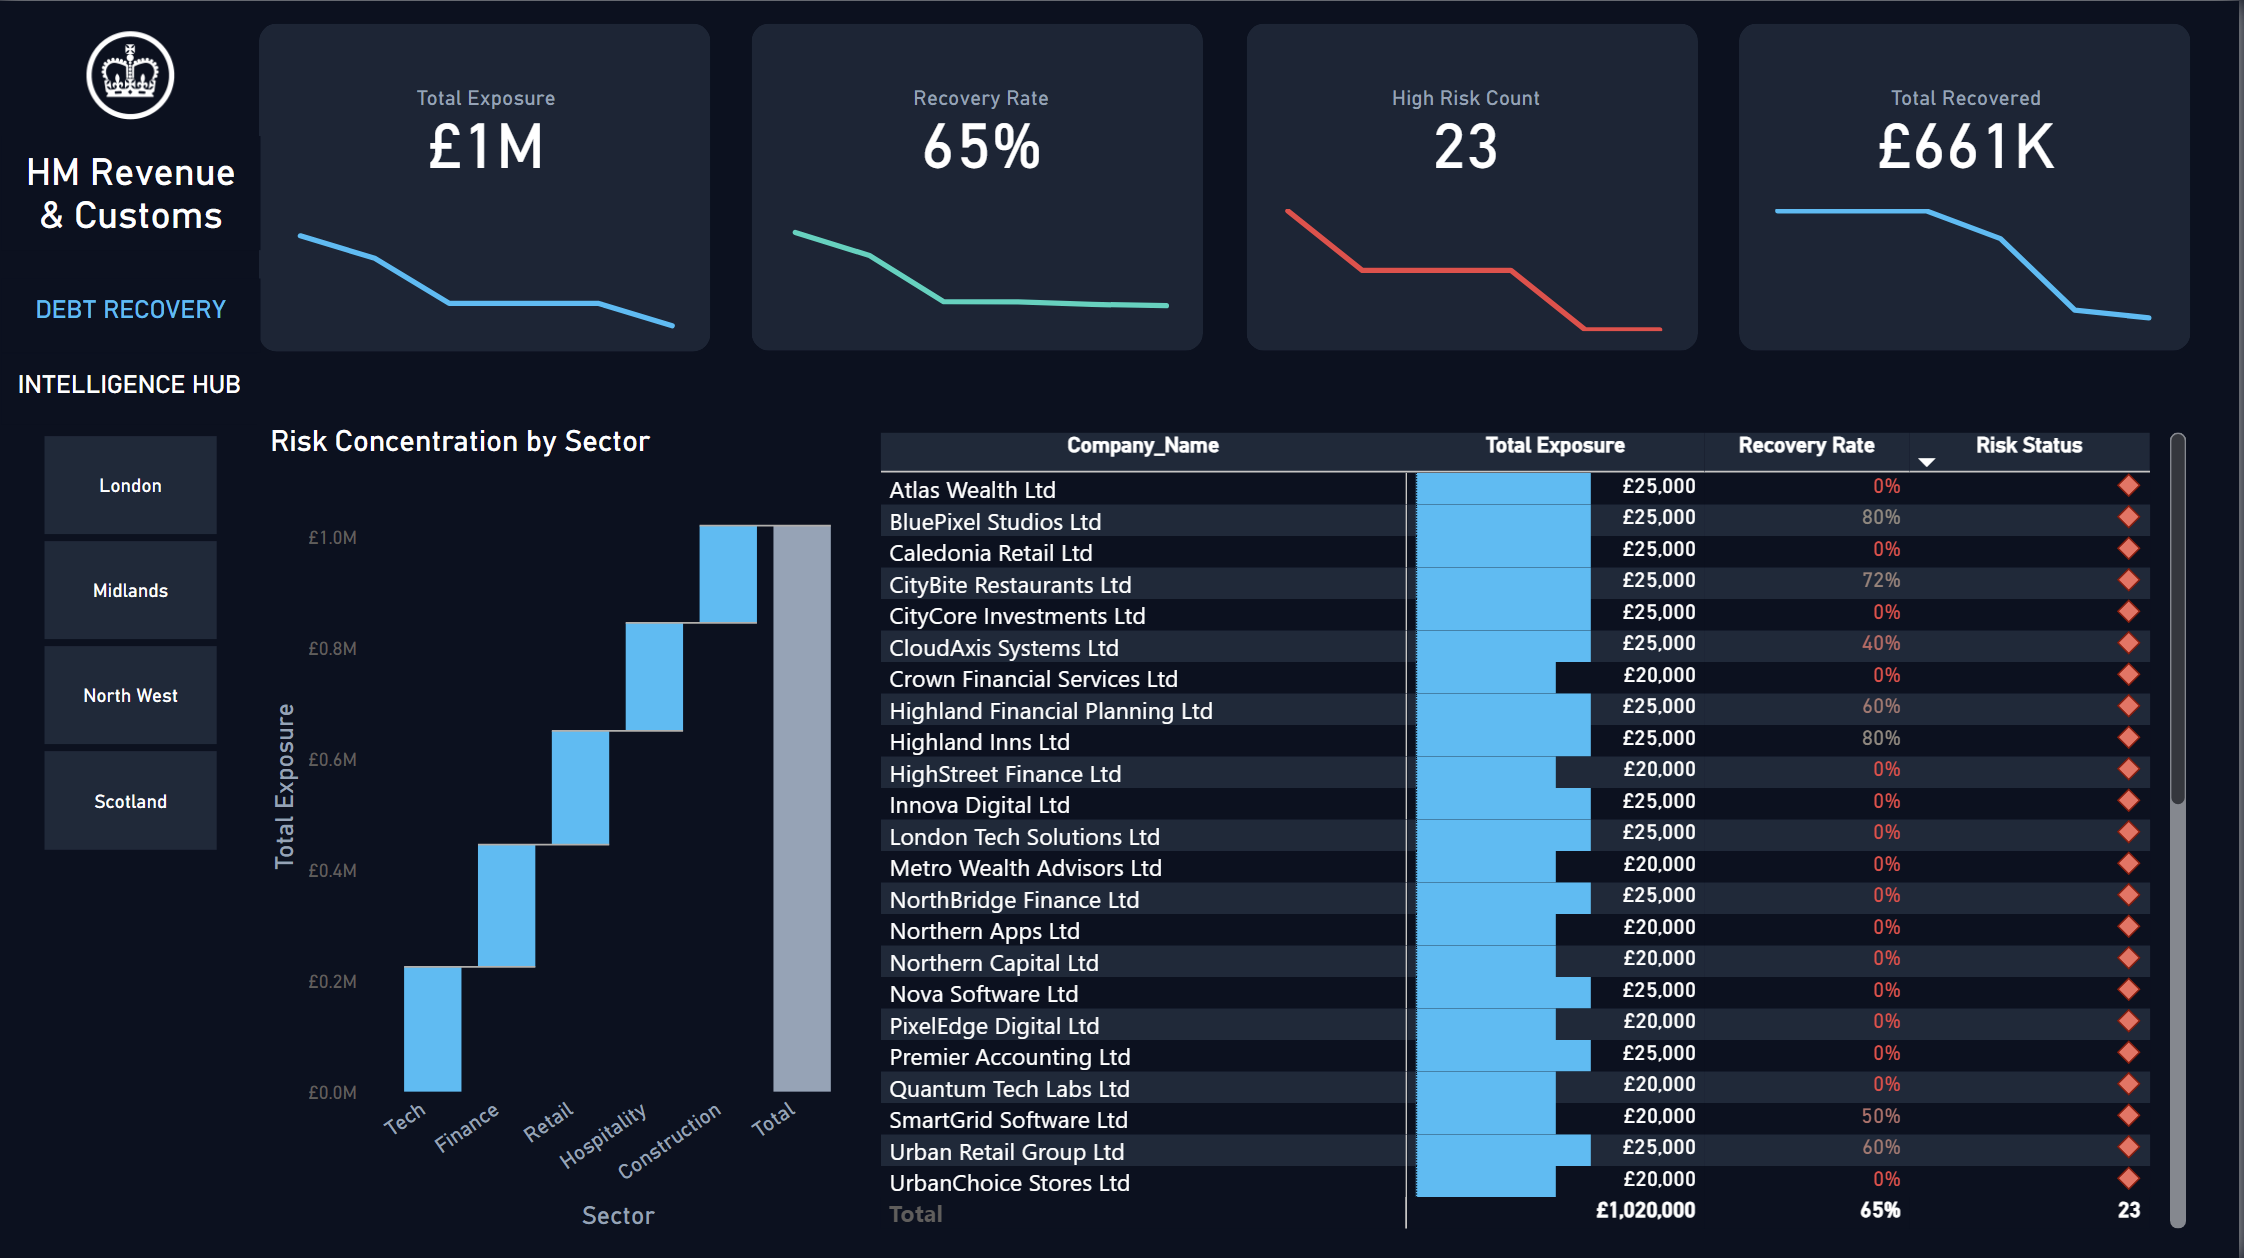

The dashboard page shown, as its layout file describes it:
{"tool":"powerbi","page":{"name":"Command_Center","canvas":[1280,720],"ordinal":0},"visuals":[{"type":"shape","box":[148.5,13,258,187.5],"z":0},{"type":"cardVisual","fields":{"Data":["_Key Measures.Total Exposure"]},"box":[162,25.5,234,99],"z":1000},{"type":"shape","box":[430,13,258,187],"z":2000},{"type":"shape","box":[713,13,258,187],"z":3000},{"type":"shape","box":[994.8,13,258,187],"z":4000},{"type":"lineChart","fields":{"Category":["Date Table.Month"],"Y":["_Key Measures.High Risk Count"]},"box":[714,106,256.5,88],"z":5000},{"type":"cardVisual","fields":{"Data":["_Key Measures.Recovery Rate"]},"box":[444,25,234,99],"z":6000},{"type":"cardVisual","fields":{"Data":["_Key Measures.Total Recovered"]},"box":[1006.5,25,234,99],"z":7000},{"type":"cardVisual","fields":{"Data":["_Key Measures.High Risk Count"]},"box":[721.5,25,234,99],"z":8000},{"type":"lineChart","fields":{"Category":["Date Table.Month"],"Y":["_Key Measures.Recovery Rate"]},"box":[433.5,106,256,88],"z":9000},{"type":"lineChart","fields":{"Category":["Date Table.Month"],"Y":["_Key Measures.Total Exposure"]},"box":[150,106.5,256.5,88.5],"z":10000},{"type":"lineChart","fields":{"Category":["Date Table.Month"],"Y":["_Key Measures.Total Recovered"]},"box":[994.5,106,256,88],"z":11000},{"type":"waterfallChart","title":"Risk Concentration by Sector","fields":{"Category":["Dim_Companies.Sector"],"Y":["_Key Measures.Total Exposure"]},"box":[150,241.5,348,465],"z":12000},{"type":"pivotTable","fields":{"Rows":["Dim_Companies.Company_Name"],"Values":["_Key Measures.Total Exposure","_Key Measures.Recovery Rate","_Key Measures.High Risk Count"]},"box":[498,241.5,756,465],"z":13000},{"type":"slicer","fields":{"Values":["Dim_Companies.Region"]},"box":[0,241.5,148.5,250.5],"z":14000},{"type":"image","box":[1.5,7.5,147,70.5],"z":15000},{"type":"textbox","box":[1.8,77.5,147.9,65.1],"z":16000},{"type":"textbox","box":[1.8,158.5,147.9,42.3],"z":17000},{"type":"textbox","box":[1.8,200.7,146.1,40.5],"z":18000}]}

Visuals, with their boxes in screenshot pixels (x1, y1, x2, y2), scaled from the page's 1280x720 canvas onto the 2244x1258 screenshot:
shape: (left=260, top=23, right=713, bottom=350)
cardVisual - _Key Measures.Total Exposure: (left=284, top=45, right=694, bottom=218)
shape: (left=754, top=23, right=1206, bottom=349)
shape: (left=1250, top=23, right=1702, bottom=349)
shape: (left=1744, top=23, right=2196, bottom=349)
lineChart - Date Table.Month x _Key Measures.High Risk Count: (left=1252, top=185, right=1701, bottom=339)
cardVisual - _Key Measures.Recovery Rate: (left=778, top=44, right=1189, bottom=217)
cardVisual - _Key Measures.Total Recovered: (left=1765, top=44, right=2175, bottom=217)
cardVisual - _Key Measures.High Risk Count: (left=1265, top=44, right=1675, bottom=217)
lineChart - Date Table.Month x _Key Measures.Recovery Rate: (left=760, top=185, right=1209, bottom=339)
lineChart - Date Table.Month x _Key Measures.Total Exposure: (left=263, top=186, right=713, bottom=341)
lineChart - Date Table.Month x _Key Measures.Total Recovered: (left=1743, top=185, right=2192, bottom=339)
"Risk Concentration by Sector" waterfallChart: (left=263, top=422, right=873, bottom=1234)
pivotTable - Dim_Companies.Company_Name x _Key Measures.Total Exposure: (left=873, top=422, right=2198, bottom=1234)
slicer - Dim_Companies.Region: (left=0, top=422, right=260, bottom=860)
image: (left=3, top=13, right=260, bottom=136)
textbox: (left=3, top=135, right=262, bottom=249)
textbox: (left=3, top=277, right=262, bottom=351)
textbox: (left=3, top=351, right=259, bottom=421)
